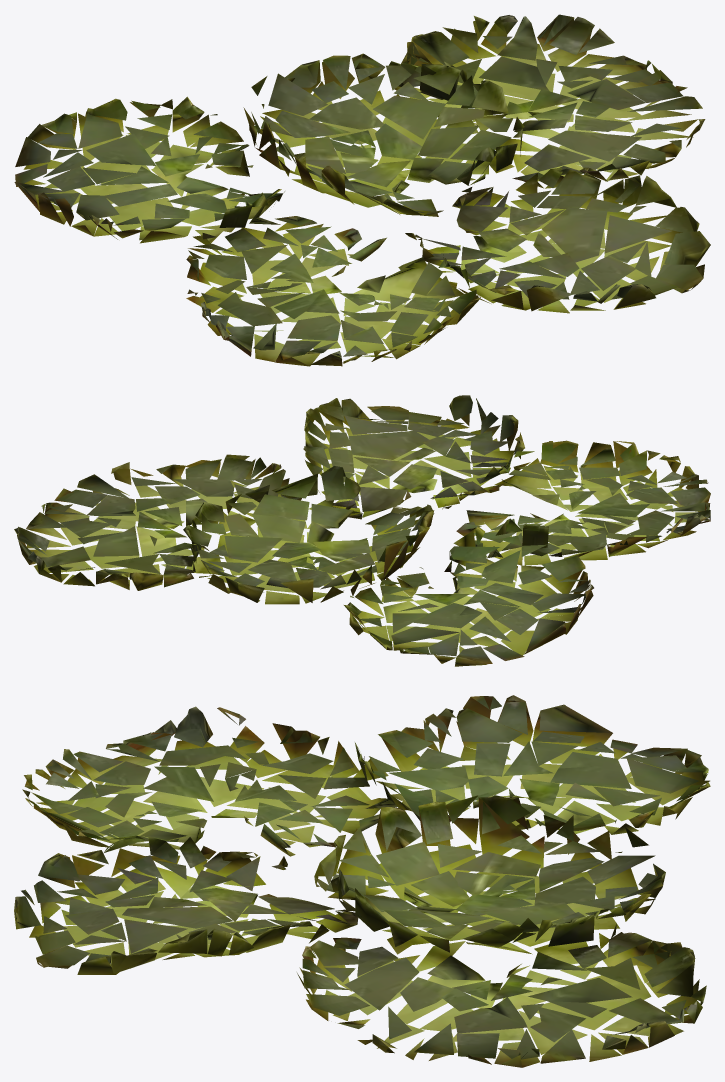
File: lily-pads.glb
The picture shows the model from 3 angles, top to bottom: view 1: azimuth 30°, elevation 25°; view 2: azimuth 150°, elevation 25°; view 3: azimuth 270°, elevation 25°; orthographic projection. The views are drawn at different scales.
Parts seen in each view (by area): view 1: Mesh_0; view 2: Mesh_0; view 3: Mesh_0.
Part boxes in pixels (<box>): Mesh_0: <box>14,14,710,366</box>; Mesh_0: <box>14,395,710,666</box>; Mesh_0: <box>14,695,710,1067</box>.
Bounding box in the file's own units: 2.57 × 0.24 × 2.3.
Materials: 1 (1 with a texture image).
